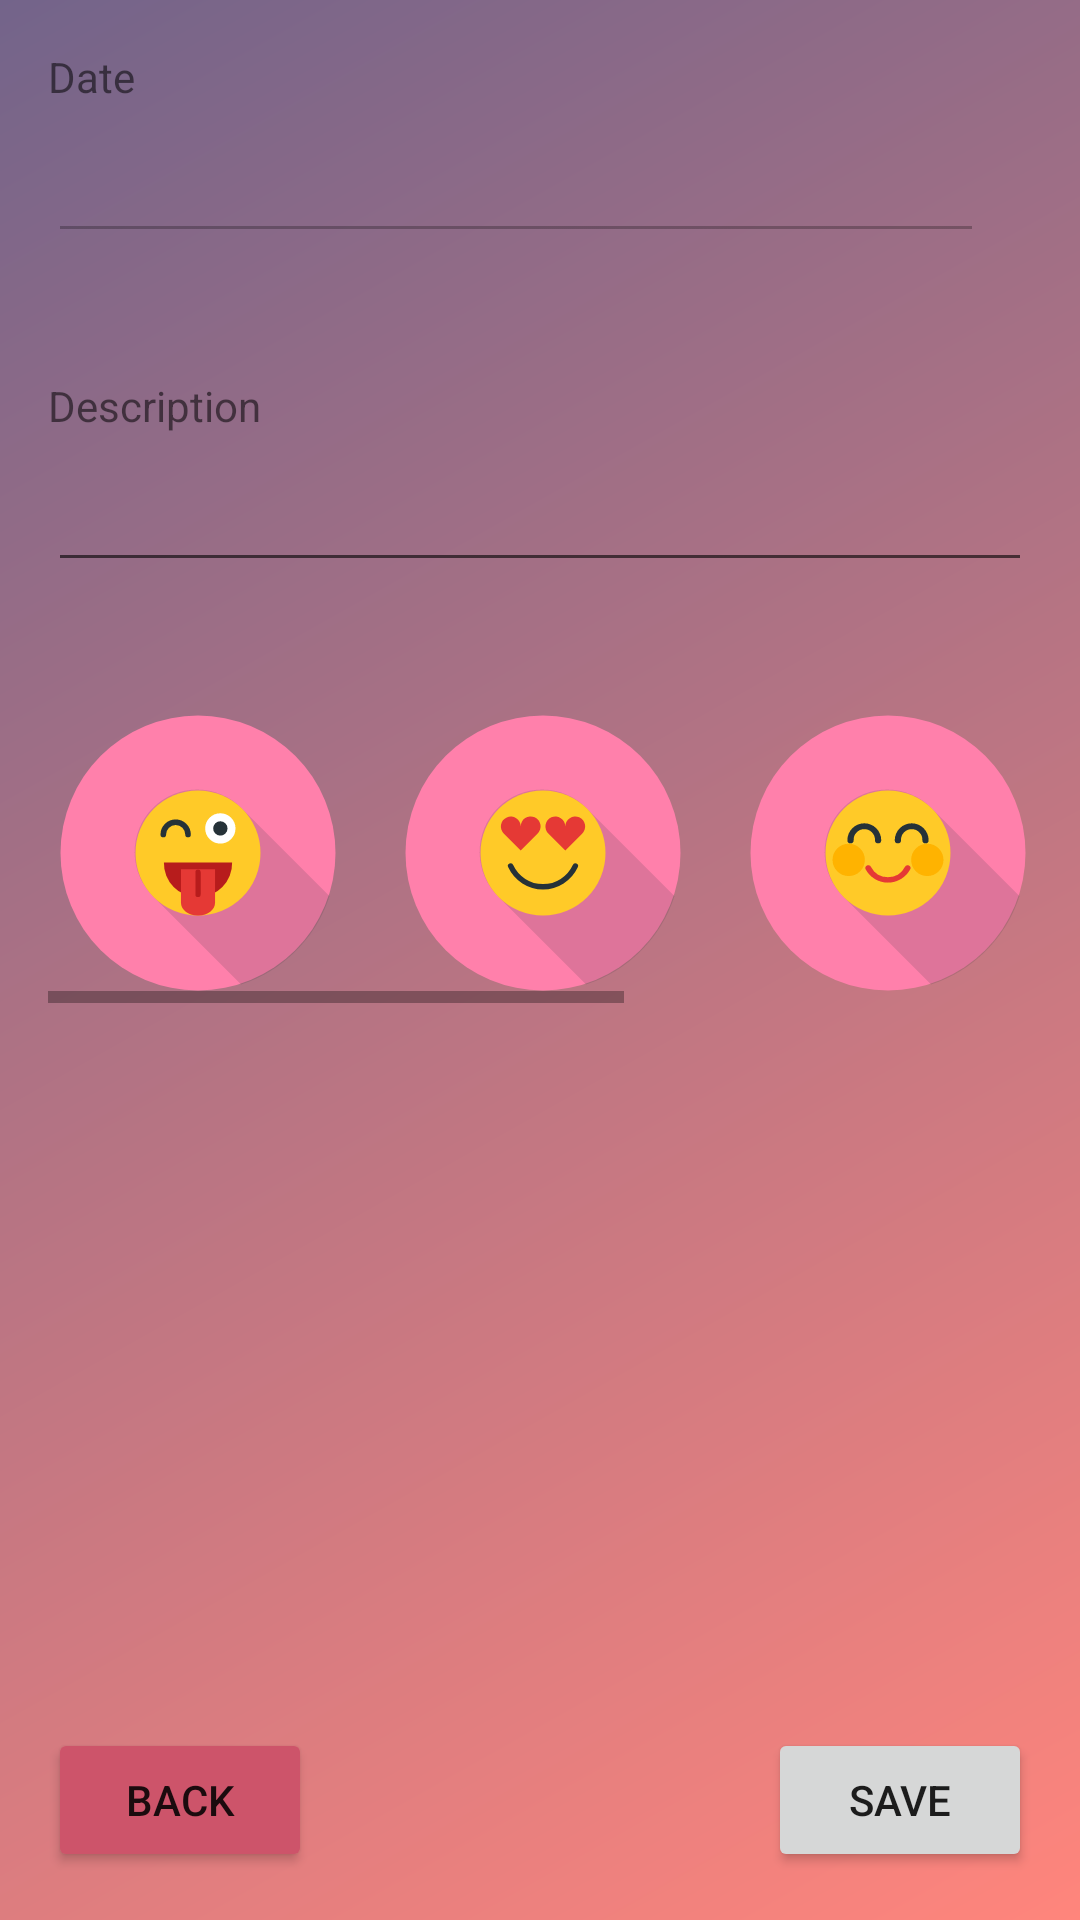

Screen size 1080w x 1920h. Icon name, then its center in pixels as [x,y]:
mood love: [537,859]
mood relaxed: [888,853]
mood wink: [198,859]
